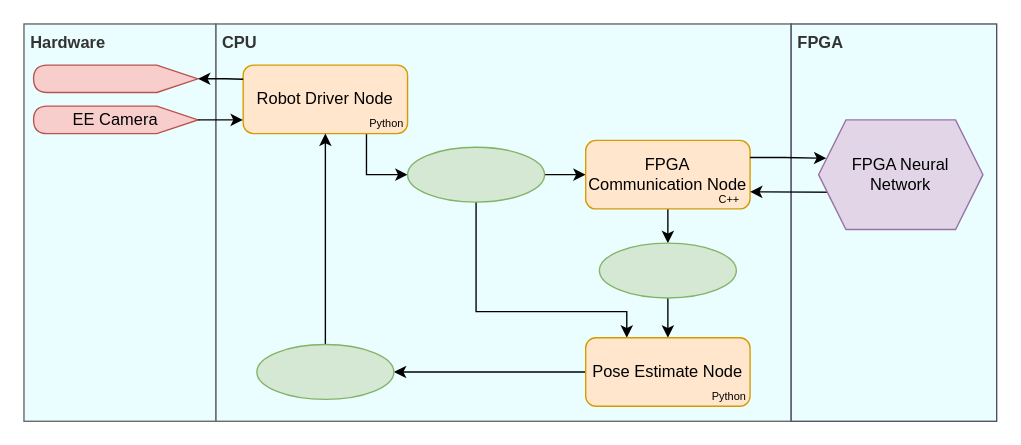
Some shapes in this 1021 by 445 pixel diagram are drawn without their labels. Each missing label, with the centre of its shape:
"/Capture" belongs at pixel 475 174.
"/Pose_EE" belongs at pixel 325 371.
"/Result" belongs at pixel 667 270.
"Arm/EE Motors" belongs at pixel 115 78.
